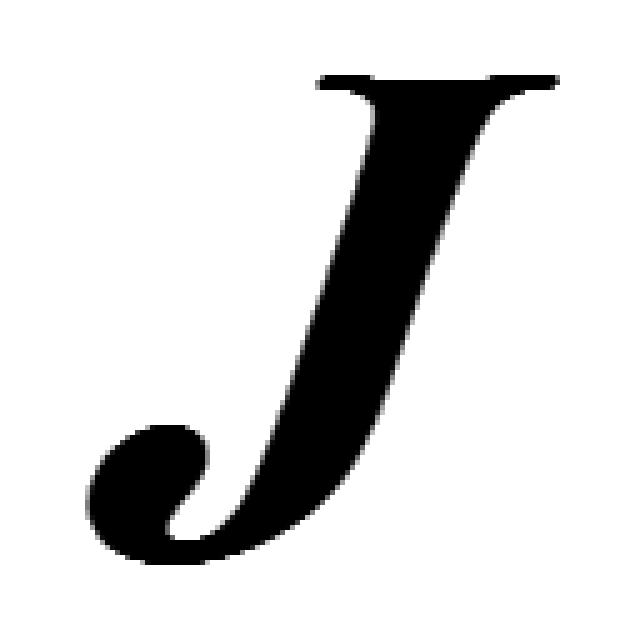J: (80, 60, 565, 570)
